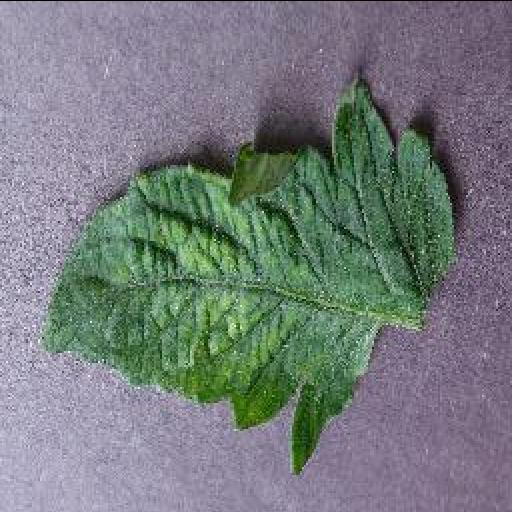disease_tomato: (38, 68, 458, 474)
